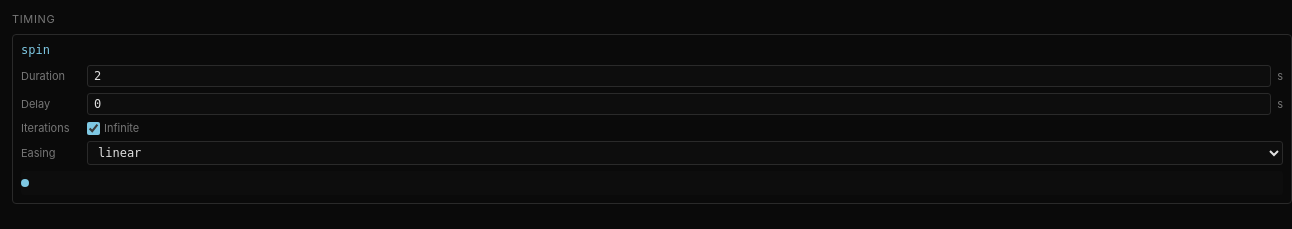
Test: TimingControls › shows iteration count input when infinite is unchecked
This screenshot has width=1292, height=229.
# Uncheck infinite
Click the checkbox with test id "timing-infinite-0". click: (94, 128)
box: [87, 122, 100, 134]
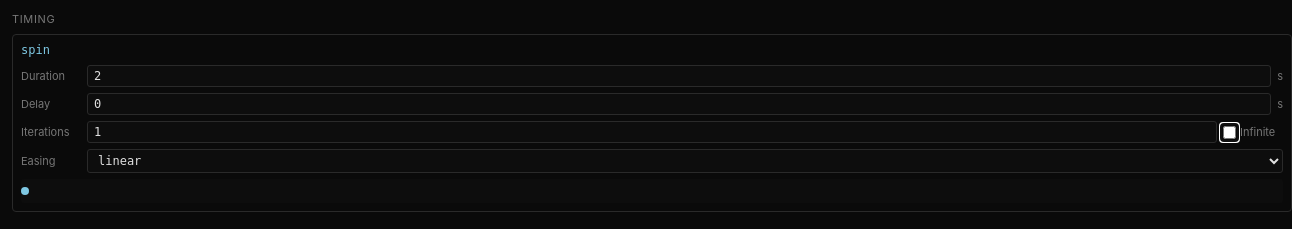
Expected: the checkbox with test id "timing-infinite-0" is not checked, [1223, 126, 1236, 138]
Expected: the number field with test id "timing-iterations-0" holds "1", [87, 121, 1217, 143]
